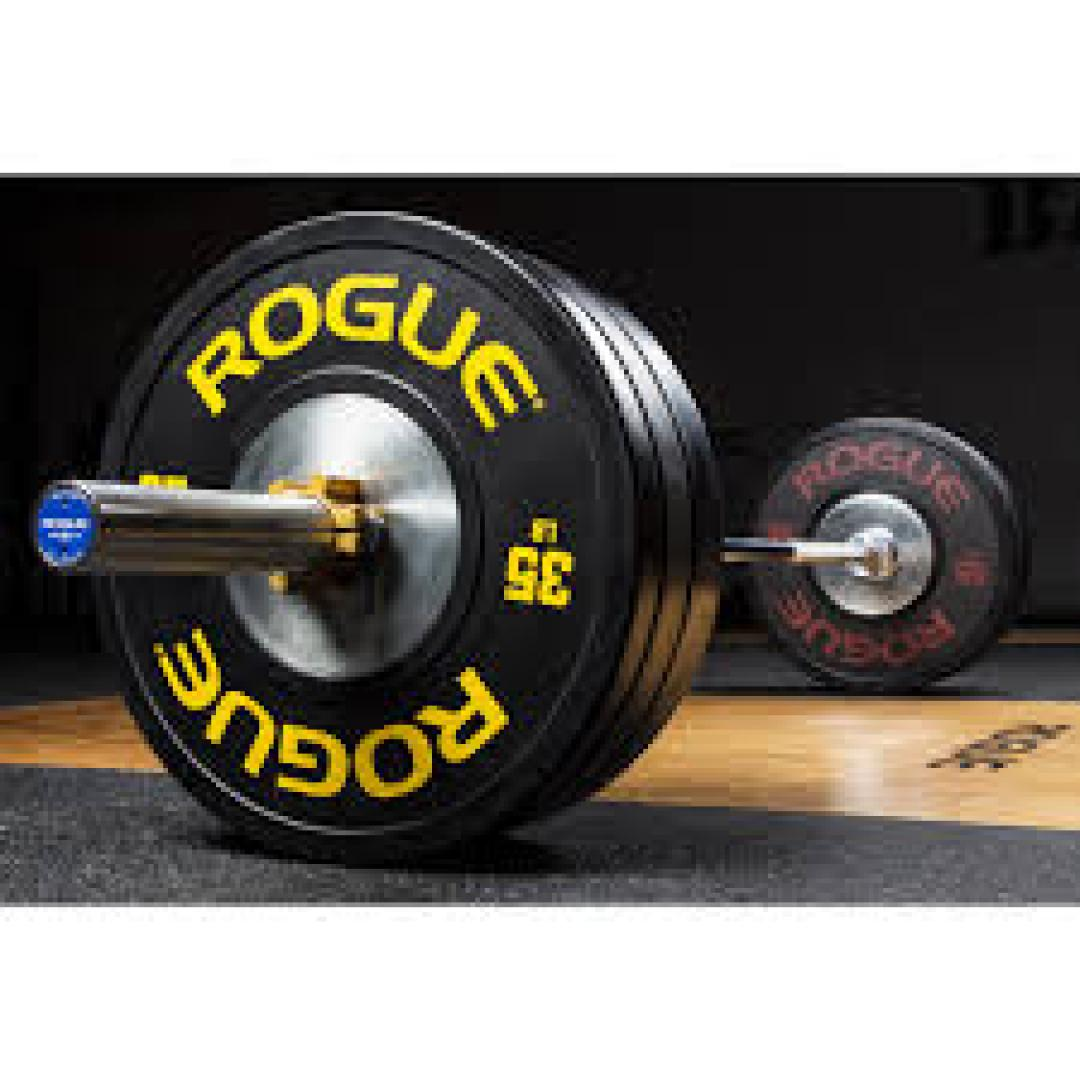Bar: (29, 470, 110, 576)
Barbell: (96, 211, 638, 859)
